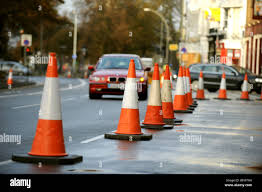car: (87, 55, 146, 99), (187, 63, 260, 94), (1, 60, 33, 76)
cone: (29, 52, 70, 157), (115, 59, 145, 135), (142, 64, 166, 125), (162, 65, 176, 119), (175, 67, 188, 110), (216, 73, 229, 100), (239, 74, 251, 101), (197, 73, 207, 101), (7, 69, 14, 86)
